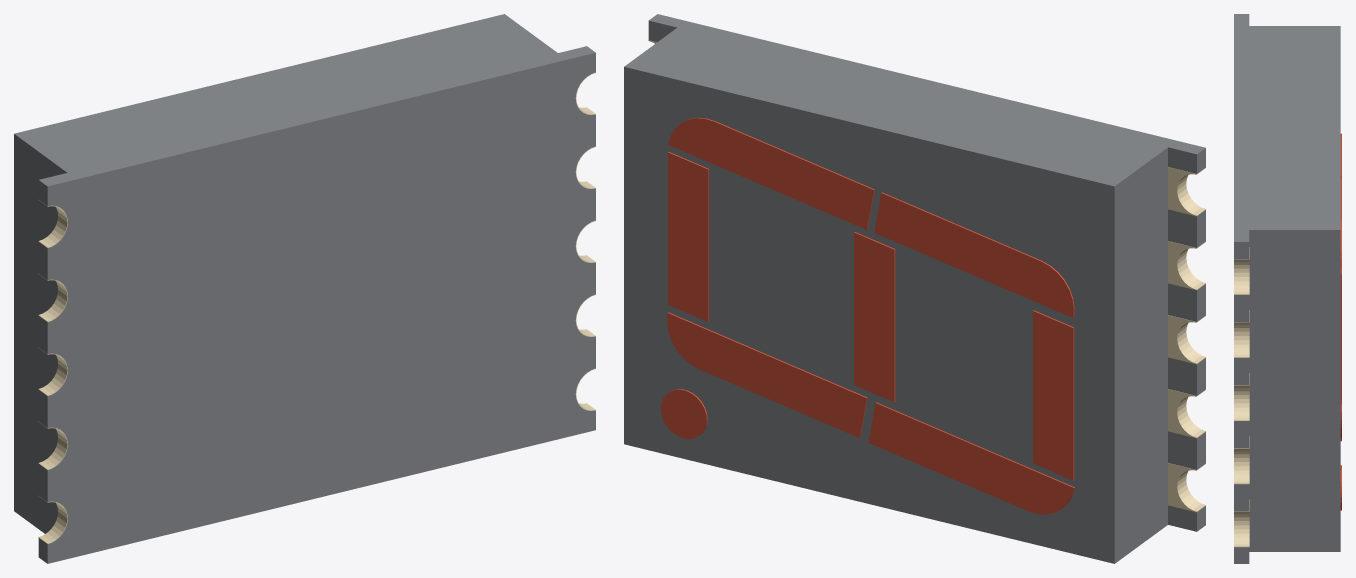
Rendered from 7SEGMENT-LED__HDSM531_HDSM533_SMD.glb.
3 renders of one model, left to right at view 1: azimuth 30°, elevation 25°; view 2: azimuth 150°, elevation 25°; view 3: azimuth 270°, elevation 25°, orthographic. The views are drawn at different scales.
Parts seen in each view (by area): view 1: Shape_IndexedFaceSet.066, Shape_IndexedFaceSet.004, Shape_IndexedFaceSet.006; view 2: Shape_IndexedFaceSet.002, Shape_IndexedFaceSet.004, Shape_IndexedFaceSet.006, Shape_IndexedFaceSet.094, Shape_IndexedFaceSet.093, Shape_IndexedFaceSet.098, Shape_IndexedFaceSet.096, Shape_IndexedFaceSet.092, Shape_IndexedFaceSet.095, Shape_IndexedFaceSet.097, Shape_IndexedFaceSet, Shape_IndexedFaceSet.077 (+3 smaller); view 3: Shape_IndexedFaceSet.003, Shape_IndexedFaceSet.004, Shape_IndexedFaceSet.104, Shape_IndexedFaceSet.106, Shape_IndexedFaceSet.112, Shape_IndexedFaceSet.114, Shape_IndexedFaceSet.116, Shape_IndexedFaceSet.122, Shape_IndexedFaceSet.100, Shape_IndexedFaceSet.109, Shape_IndexedFaceSet.119, Shape_IndexedFaceSet.067 (+7 smaller).
Boxes of the visible parts, x1,y1,x2,y2 form: Shape_IndexedFaceSet.066: (47,52,595,563); Shape_IndexedFaceSet.004: (14,14,595,186); Shape_IndexedFaceSet.006: (14,134,66,533); Shape_IndexedFaceSet.002: (624,67,1114,563); Shape_IndexedFaceSet.004: (624,14,1205,186); Shape_IndexedFaceSet.006: (1114,147,1167,563); Shape_IndexedFaceSet.094: (874,193,1073,317); Shape_IndexedFaceSet.093: (868,403,1074,514); Shape_IndexedFaceSet.098: (668,118,873,229); Shape_IndexedFaceSet.096: (667,313,866,437); Shape_IndexedFaceSet.092: (1033,311,1073,480); Shape_IndexedFaceSet.095: (854,232,894,401); Shape_IndexedFaceSet.097: (668,152,708,321); Shape_IndexedFaceSet: (660,389,706,438); Shape_IndexedFaceSet.077: (1168,431,1196,469); Shape_IndexedFaceSet.003: (1249,230,1340,551); Shape_IndexedFaceSet.004: (1234,14,1340,241); Shape_IndexedFaceSet.104: (1234,484,1249,511); Shape_IndexedFaceSet.106: (1234,268,1249,294); Shape_IndexedFaceSet.112: (1234,295,1249,321); Shape_IndexedFaceSet.114: (1234,421,1249,447); Shape_IndexedFaceSet.116: (1234,331,1249,357); Shape_IndexedFaceSet.122: (1234,358,1249,384); Shape_IndexedFaceSet.100: (1234,521,1249,546); Shape_IndexedFaceSet.109: (1234,458,1249,483); Shape_IndexedFaceSet.119: (1234,395,1249,420); Shape_IndexedFaceSet.067: (1234,242,1249,258).
Bounding box in the file's own units: 7.48 × 4.92 × 1.5.
